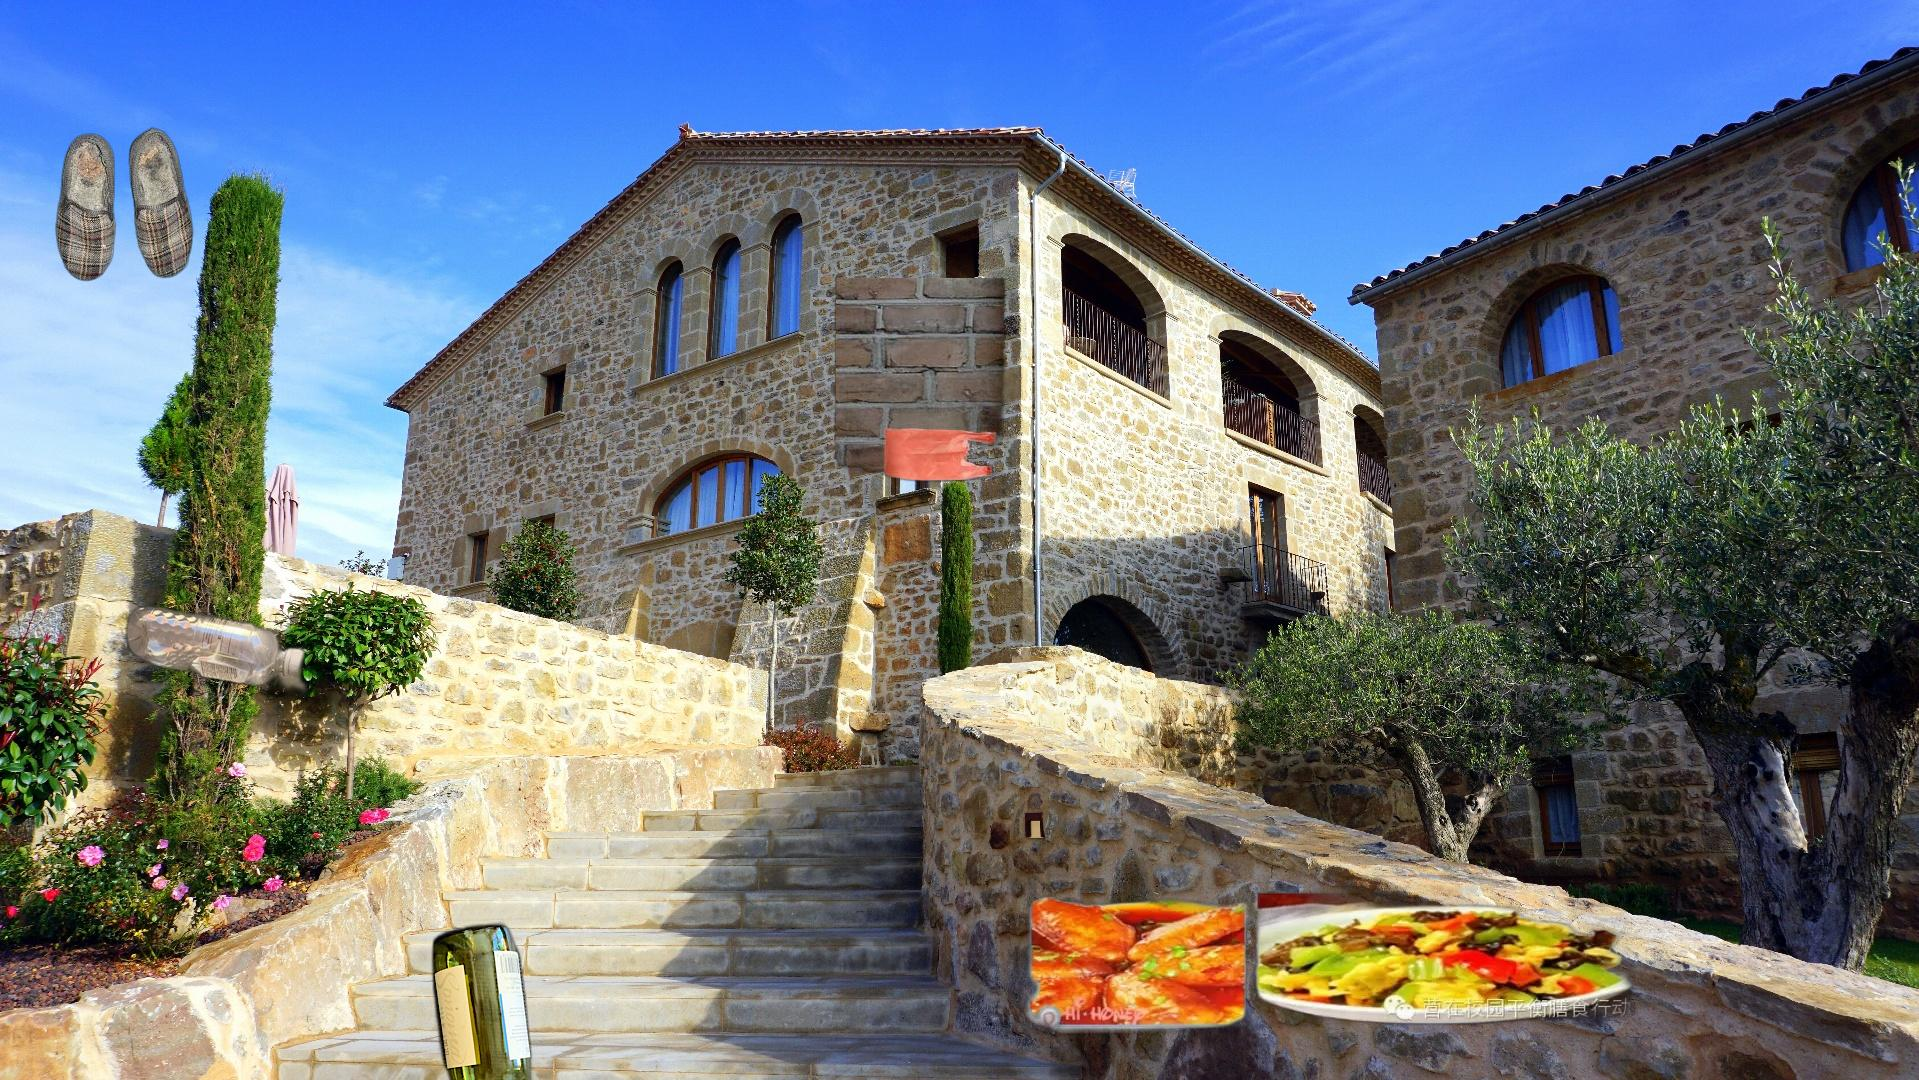biological: (1012, 647, 1638, 1040)
glass: (428, 918, 536, 1080)
plastic-bag: (735, 278, 1029, 578)
plastic-bottles: (121, 600, 315, 717)
shoes: (53, 127, 196, 284)
